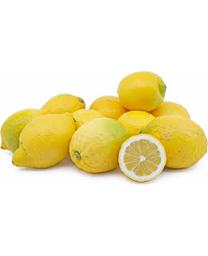lemon: (140, 116, 207, 169), (13, 114, 77, 168), (71, 116, 126, 174), (120, 134, 166, 182), (117, 71, 166, 111)
